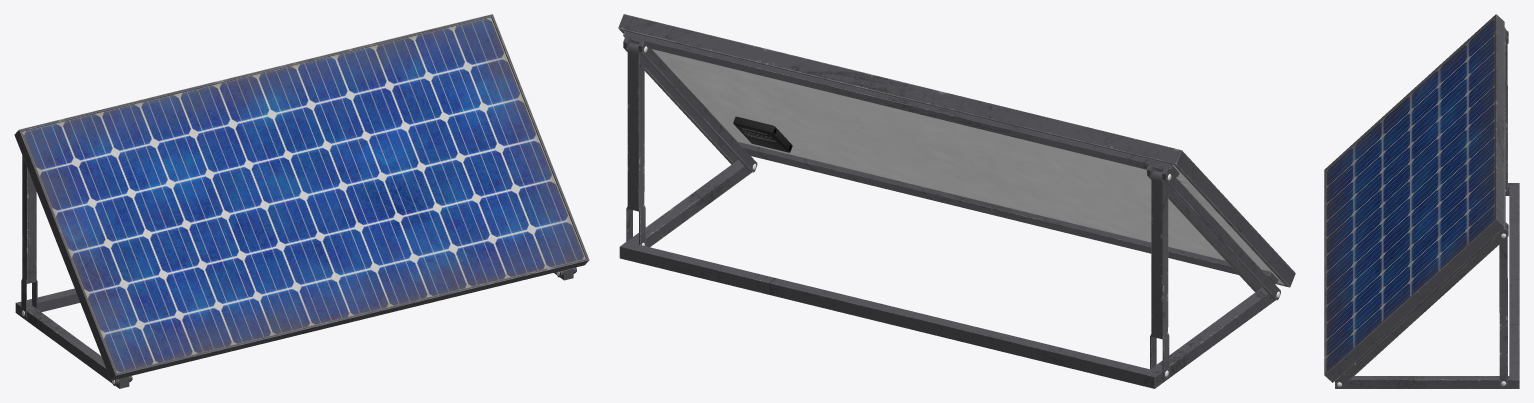
The model's file is solar_panel.glb.
3 views of the same model, side by side, from view 1: azimuth 30°, elevation 25°; view 2: azimuth 150°, elevation 25°; view 3: azimuth 270°, elevation 25° (orthographic). The views are drawn at different scales.
Parts seen in each view (by area): view 1: SolarPanel; view 2: SolarPanel; view 3: SolarPanel.
Part boxes in pixels (left/top/right/bottom): SolarPanel: left=14, top=14, right=589, bottom=388; SolarPanel: left=618, top=14, right=1295, bottom=388; SolarPanel: left=1324, top=14, right=1519, bottom=388.
Size of the model in its own units: 165 by 65.13 by 66.43.
Materials: 1 (1 with a texture image).
